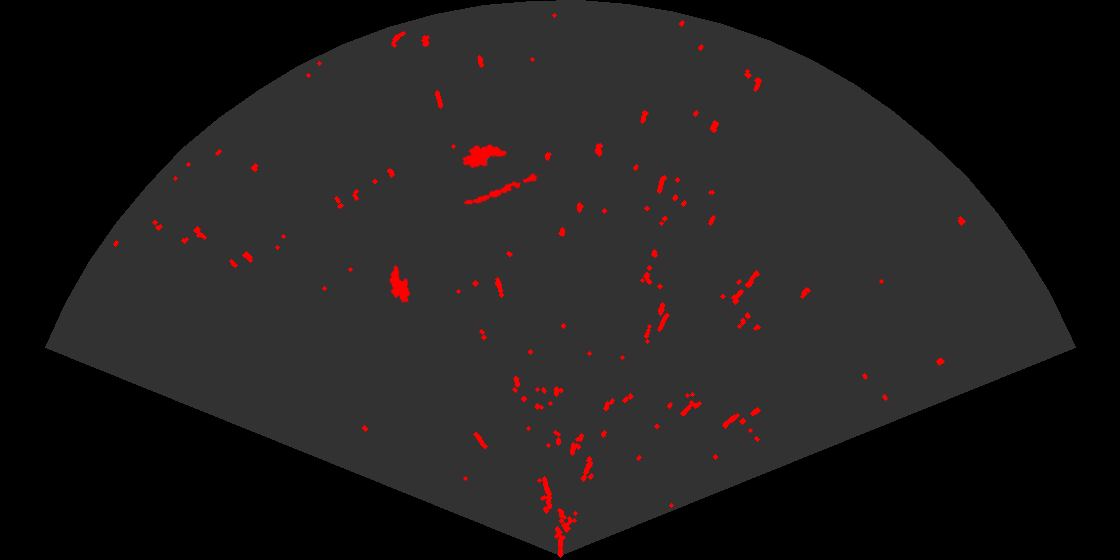AUV: (460, 143, 509, 170), (388, 263, 412, 304)
chain: (462, 172, 543, 206)
